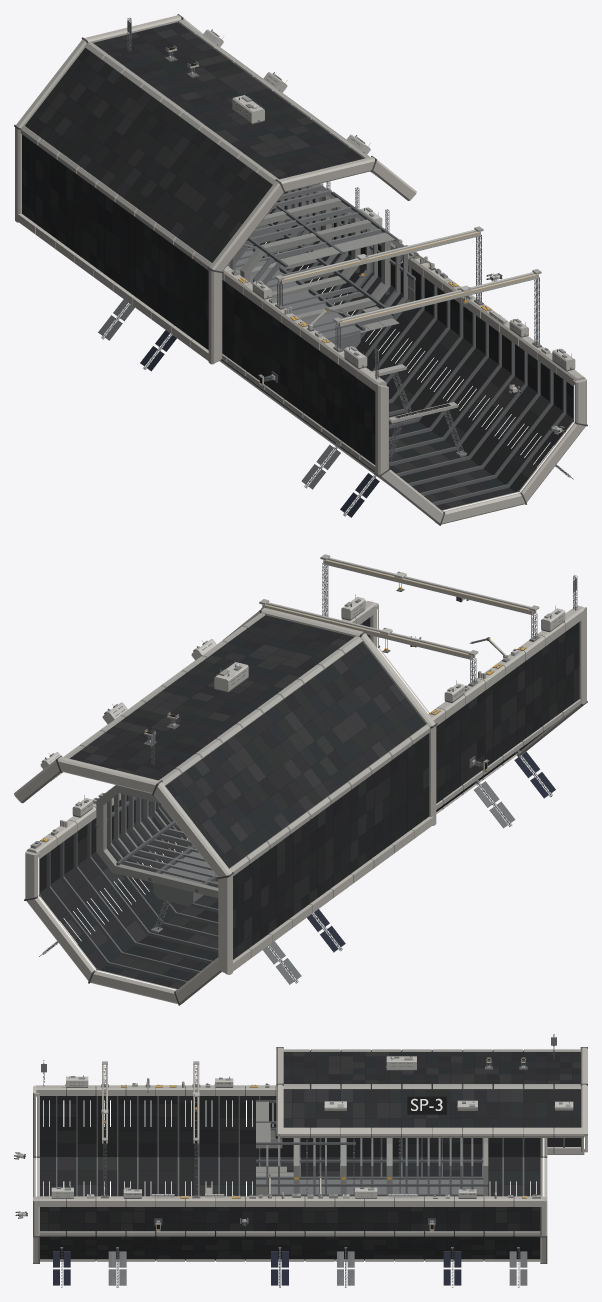
The model's file is spaceport.lite.glb.
3 views of the same model, one above another, from view 1: azimuth 30°, elevation 25°; view 2: azimuth 150°, elevation 25°; view 3: azimuth 270°, elevation 25° (orthographic). The views are drawn at different scales.
Parts seen in each view (by area): view 1: hull; view 2: hull; view 3: hull.
Part boxes in pixels (x1,y1,x2,y2): hull: [14, 14, 587, 525]; hull: [14, 554, 587, 1005]; hull: [14, 1034, 587, 1287].
Size of the model in its own units: 481 by 446 by 1131.
Materials: 16 (8 with a texture image).
